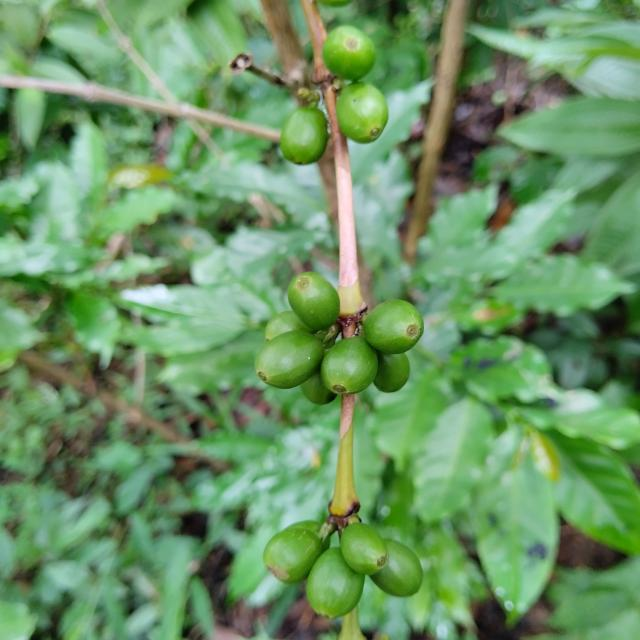green: (306, 548, 365, 620), (255, 330, 324, 389), (263, 524, 323, 584), (321, 336, 378, 395), (363, 300, 424, 354), (337, 81, 389, 143), (322, 24, 376, 81), (370, 540, 423, 598), (288, 272, 340, 331), (280, 106, 329, 164), (340, 523, 389, 576), (265, 310, 315, 341), (374, 351, 410, 393), (300, 370, 337, 405)
